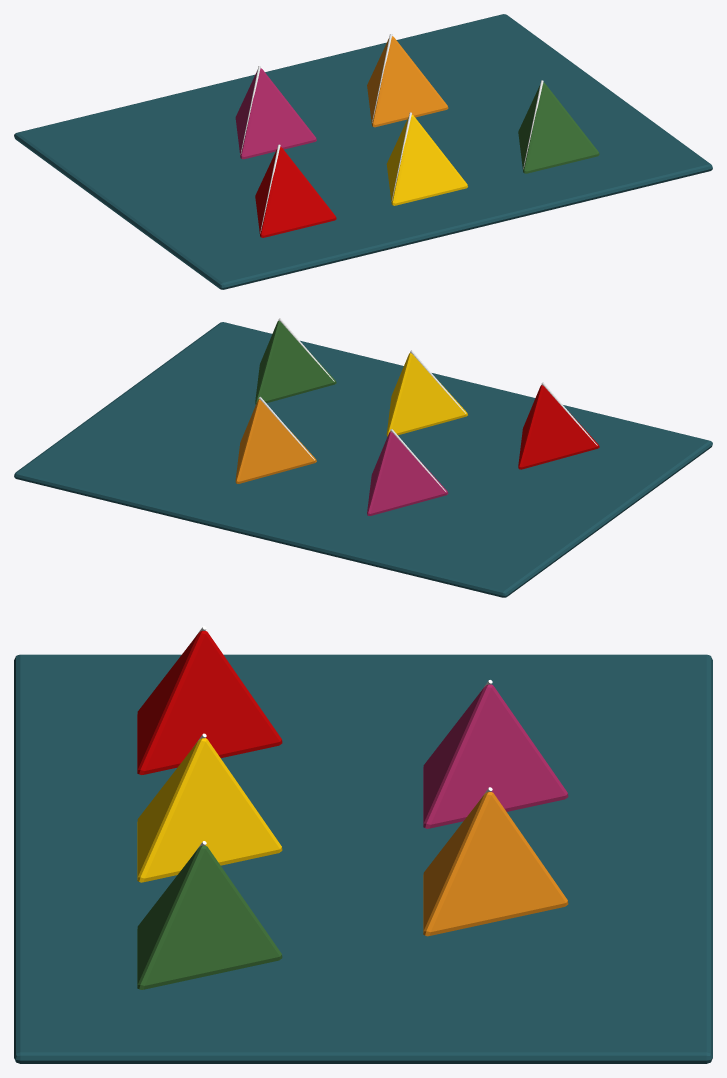
The model's file is traditional-five-stones-game-set.glb.
3 views of the same model, one above another, from view 1: azimuth 30°, elevation 25°; view 2: azimuth 150°, elevation 25°; view 3: azimuth 270°, elevation 25° (orthographic). The views are drawn at different scales.
Parts seen in each view (by area): view 1: Play_Mat, Cloth_Beanbag_1, Cloth_Beanbag_0, Cloth_Beanbag_2, Cloth_Beanbag_4, Cloth_Beanbag_3; view 2: Play_Mat, Cloth_Beanbag_4, Cloth_Beanbag_0, Cloth_Beanbag_3, Cloth_Beanbag_2, Cloth_Beanbag_1; view 3: Play_Mat, Cloth_Beanbag_2, Cloth_Beanbag_4, Cloth_Beanbag_1, Cloth_Beanbag_3, Cloth_Beanbag_0.
Boxes of the visible parts, left/top/right/bottom form: Play_Mat: left=14, top=14, right=712, bottom=289; Cloth_Beanbag_1: left=386, top=114, right=467, bottom=205; Cloth_Beanbag_0: left=255, top=146, right=336, bottom=237; Cloth_Beanbag_2: left=518, top=82, right=599, bottom=173; Cloth_Beanbag_4: left=367, top=36, right=448, bottom=127; Cloth_Beanbag_3: left=235, top=68, right=316, bottom=159; Play_Mat: left=14, top=322, right=712, bottom=597; Cloth_Beanbag_4: left=235, top=399, right=316, bottom=483; Cloth_Beanbag_0: left=518, top=385, right=599, bottom=469; Cloth_Beanbag_3: left=367, top=431, right=448, bottom=515; Cloth_Beanbag_2: left=255, top=320, right=336, bottom=404; Cloth_Beanbag_1: left=386, top=352, right=467, bottom=436; Play_Mat: left=14, top=654, right=712, bottom=1063; Cloth_Beanbag_2: left=137, top=845, right=282, bottom=989; Cloth_Beanbag_4: left=423, top=792, right=568, bottom=936; Cloth_Beanbag_1: left=137, top=738, right=282, bottom=882; Cloth_Beanbag_3: left=423, top=684, right=568, bottom=828; Cloth_Beanbag_0: left=137, top=630, right=282, bottom=774.
Size of the model in its own units: 0.3 by 0.0454 by 0.22.
